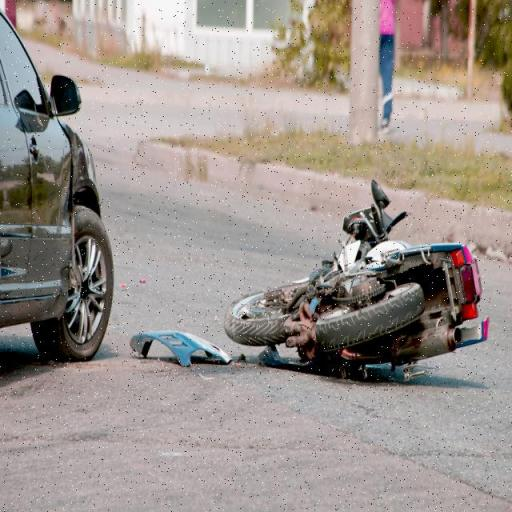小汽车: (2, 22, 114, 356)
自行车: (221, 171, 489, 383)
